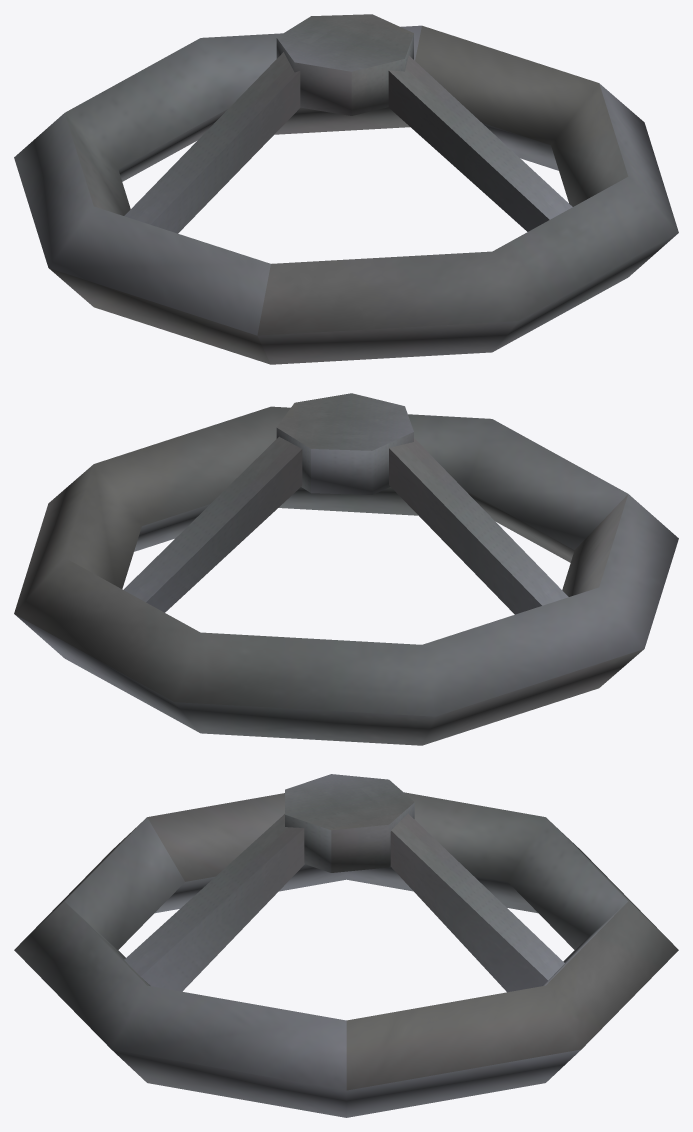
Rendered from Valve_02.fbx.
3 views of the same model, one above another, from view 1: azimuth 30°, elevation 25°; view 2: azimuth 150°, elevation 25°; view 3: azimuth 270°, elevation 25° (orthographic). The views are drawn at different scales.
Visible parts, largest first — view 1: Valve_02; view 2: Valve_02; view 3: Valve_02.
Boxes of the visible parts, box(x1,y1,x2,y2) form: Valve_02: box(14, 14, 678, 364); Valve_02: box(14, 393, 678, 745); Valve_02: box(14, 774, 678, 1117).
Size of the model in its own units: 37.78 by 12.33 by 37.78.
